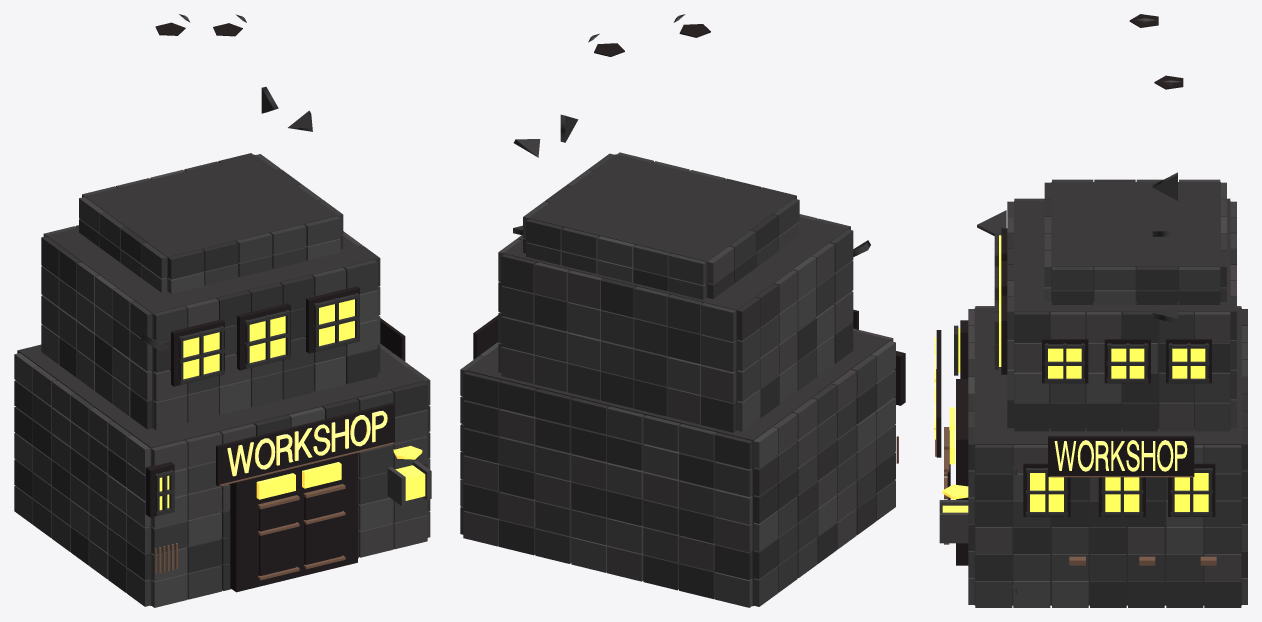
File: workshop_lod2.glb
3 views of the same model, side by side, from view 1: azimuth 30°, elevation 25°; view 2: azimuth 150°, elevation 25°; view 3: azimuth 270°, elevation 25° (orthographic). The views are drawn at different scales.
Visible parts, largest first — view 1: PBR surface 1, Amber emissive glass, WORKSHOP 3D neon; view 2: PBR surface 1; view 3: PBR surface 1, Amber emissive glass, WORKSHOP 3D neon.
Part boxes in pixels (left/top/right/bottom): PBR surface 1: left=14, top=14, right=431, bottom=607; Amber emissive glass: left=159, top=299, right=425, bottom=510; WORKSHOP 3D neon: left=227, top=323, right=389, bottom=476; PBR surface 1: left=460, top=14, right=905, bottom=607; PBR surface 1: left=935, top=14, right=1247, bottom=607; Amber emissive glass: left=942, top=235, right=1208, bottom=512; WORKSHOP 3D neon: left=934, top=337, right=1187, bottom=471.
Bounding box in the file's own units: 6.36 × 10.1 × 5.63.
Materials: 3 (3 with a texture image).
